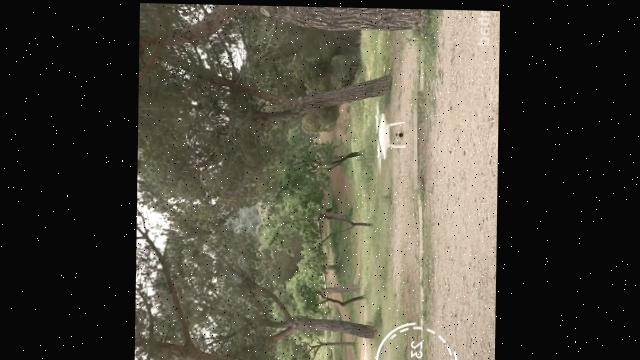drone: (372, 98, 409, 172)
